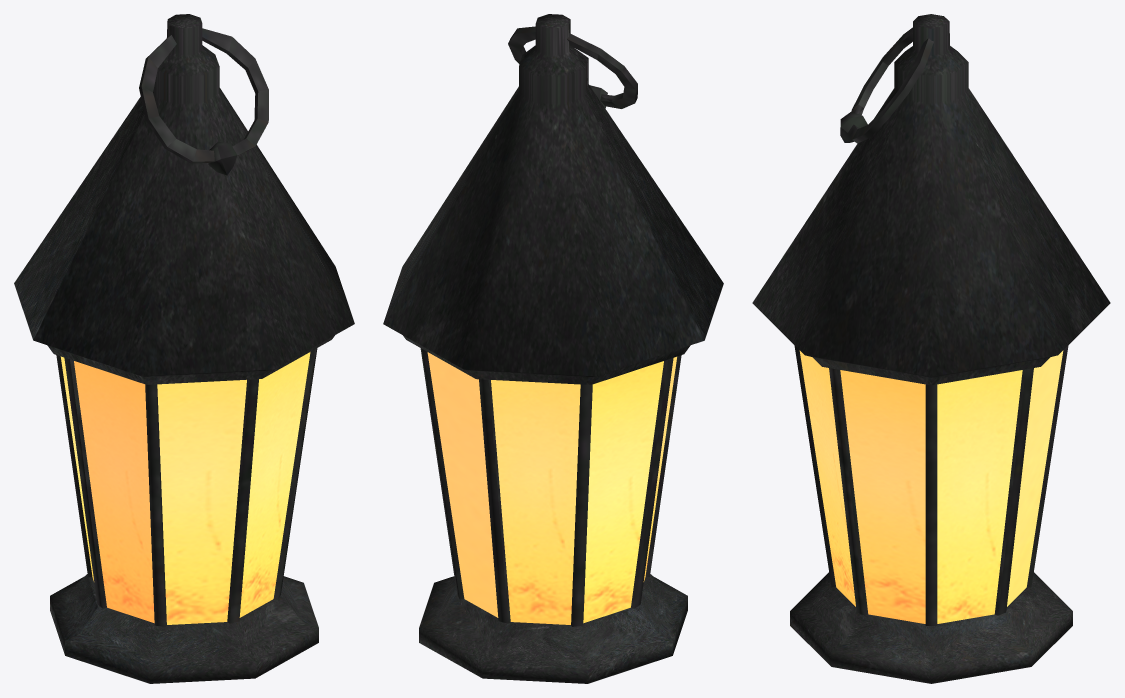
File: round_lantern_sitting.gltf
3 views of the same model, side by side, from view 1: azimuth 30°, elevation 25°; view 2: azimuth 150°, elevation 25°; view 3: azimuth 270°, elevation 25° (orthographic).
Parts seen in each view (by area): view 1: round_lantern_sitting; view 2: round_lantern_sitting; view 3: round_lantern_sitting.
Boxes of the visible parts, x1,y1,x2,y2 form: round_lantern_sitting: [14, 14, 354, 683]; round_lantern_sitting: [383, 14, 723, 683]; round_lantern_sitting: [752, 14, 1110, 683].
Size of the model in its own units: 0.3401 by 0.6502 by 0.3495.
2 materials, 2 textured.
